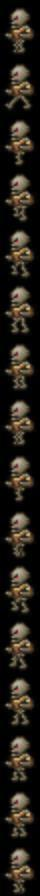zombie: (1, 3, 38, 56), (2, 116, 38, 169), (2, 344, 38, 394), (5, 60, 38, 113), (4, 286, 38, 335), (4, 226, 36, 278), (4, 174, 37, 224)
